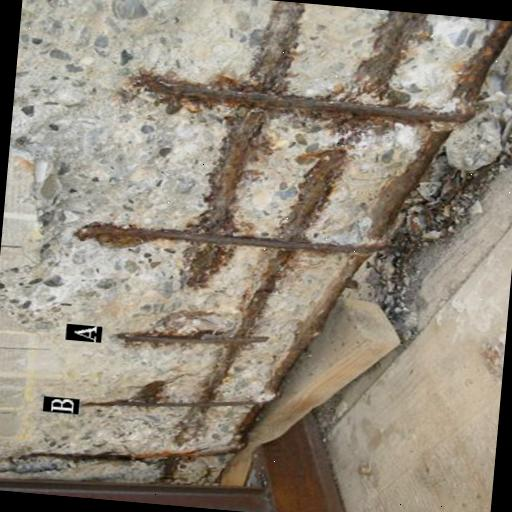spalling: (0, 0, 512, 487)
